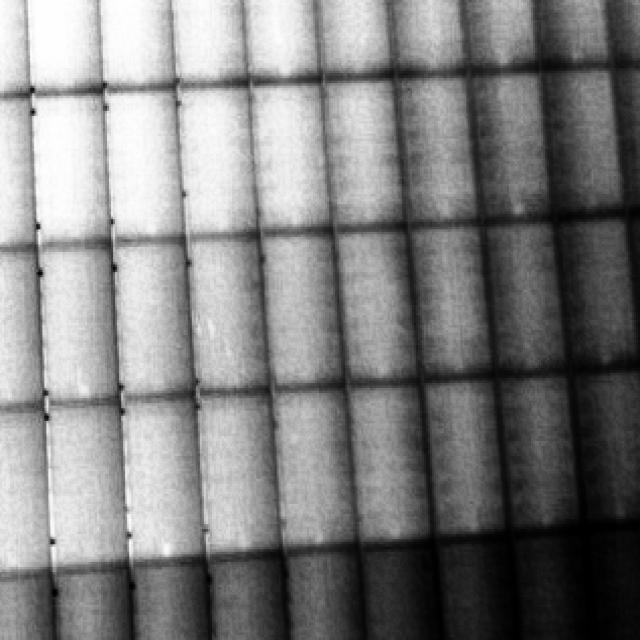PV-modules: (187, 388, 286, 560), (114, 392, 211, 566), (342, 381, 442, 549), (469, 219, 572, 382), (418, 376, 517, 544), (255, 228, 354, 396), (485, 373, 584, 540), (270, 384, 367, 553), (531, 54, 631, 216), (42, 400, 136, 572), (184, 234, 281, 400), (327, 226, 424, 391), (393, 60, 490, 224), (410, 223, 506, 386), (464, 56, 560, 219), (112, 239, 206, 405), (319, 68, 416, 228), (32, 240, 123, 407), (104, 86, 198, 246), (172, 75, 266, 234), (551, 207, 640, 373), (31, 90, 121, 252), (243, 71, 333, 230), (502, 518, 608, 638), (567, 360, 640, 532), (430, 531, 533, 640), (357, 536, 462, 640), (282, 541, 385, 640), (198, 547, 301, 640), (0, 403, 55, 575), (0, 244, 52, 413), (129, 557, 230, 640), (89, 0, 184, 88), (24, 0, 109, 98), (164, 0, 252, 91), (49, 562, 150, 640), (240, 0, 331, 86), (579, 512, 640, 638), (0, 90, 46, 257), (374, 0, 471, 71), (309, 0, 400, 73), (448, 0, 543, 66), (525, 0, 618, 63), (0, 569, 63, 640), (0, 0, 40, 103)
